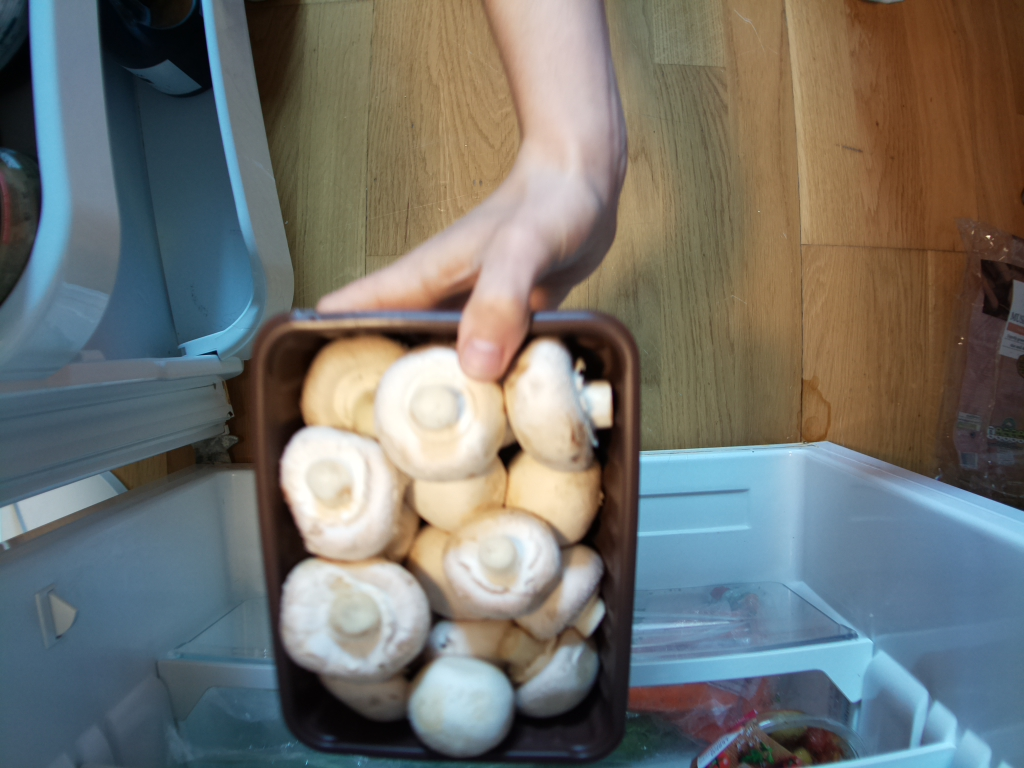mushrooms: (248, 302, 648, 768)
